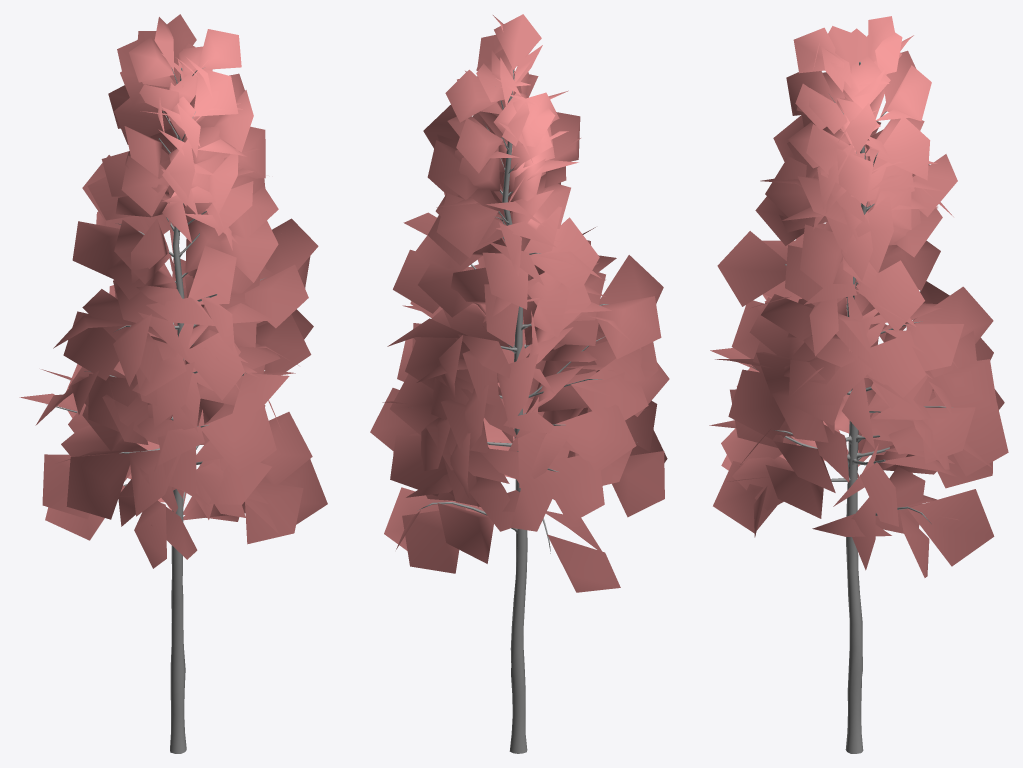
Rendered from Tree_Small_001.gltf.
The picture shows the model from 3 angles, left to right: view 1: azimuth 30°, elevation 25°; view 2: azimuth 150°, elevation 25°; view 3: azimuth 270°, elevation 25°; orthographic projection. The views are drawn at different scales.
Parts seen in each view (by area): view 1: Tree_Small_001; view 2: Tree_Small_001; view 3: Tree_Small_001.
Boxes of the visible parts, x1=… form: Tree_Small_001: x1=19, y1=14, x2=327, y2=753; Tree_Small_001: x1=370, y1=14, x2=669, y2=753; Tree_Small_001: x1=709, y1=16, x2=1008, y2=753.
Bounding box in the file's own units: 4.71 × 12.57 × 4.77.
